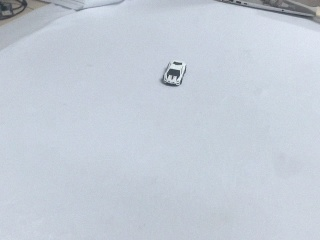toy_car: (162, 61, 186, 86)
